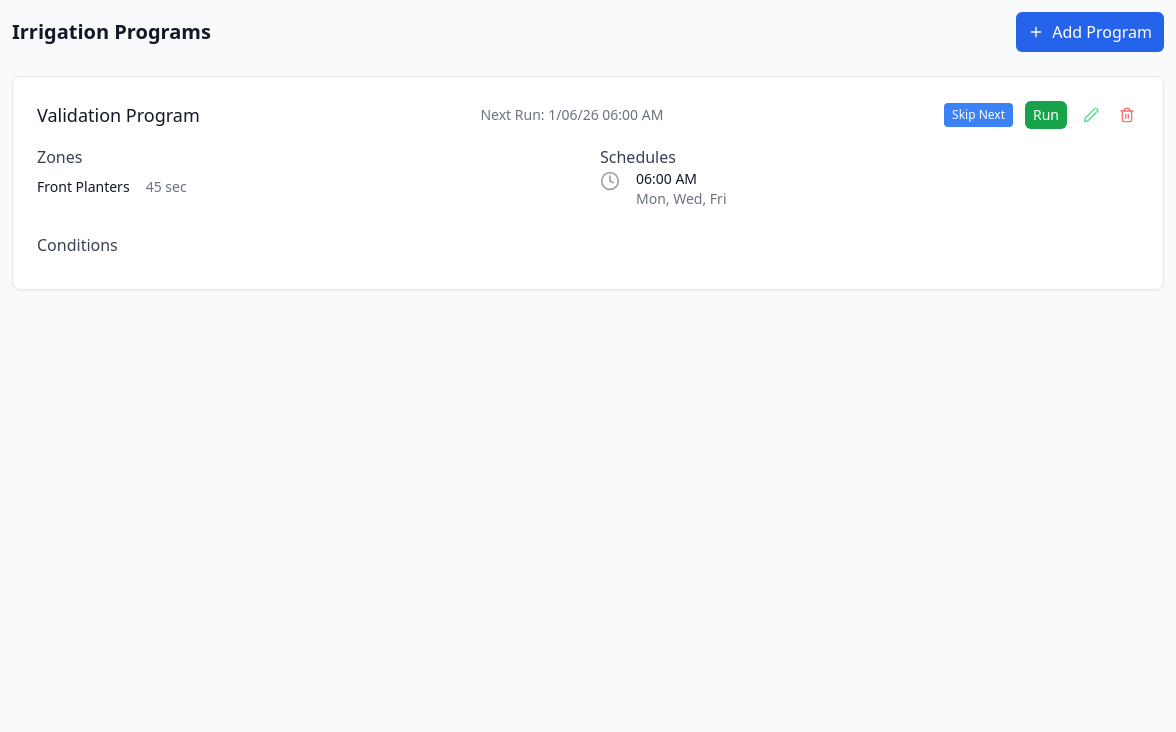
Test: ProgramManager › blocks saving an enabled program when all selected zone durations are zero
Click the button named "Edit program Validation Program": point(1091, 115) [1079, 103, 1103, 127]
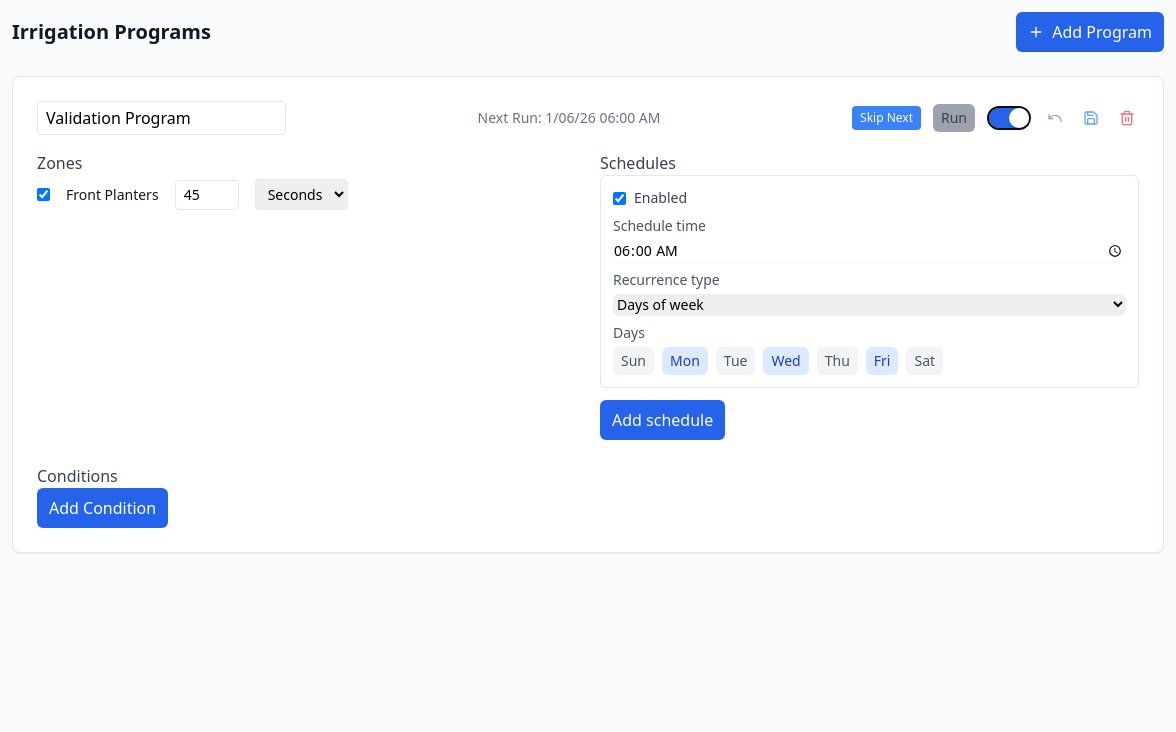
Clear the field named "Duration for Front Planters": point(207, 194) [175, 180, 239, 210]
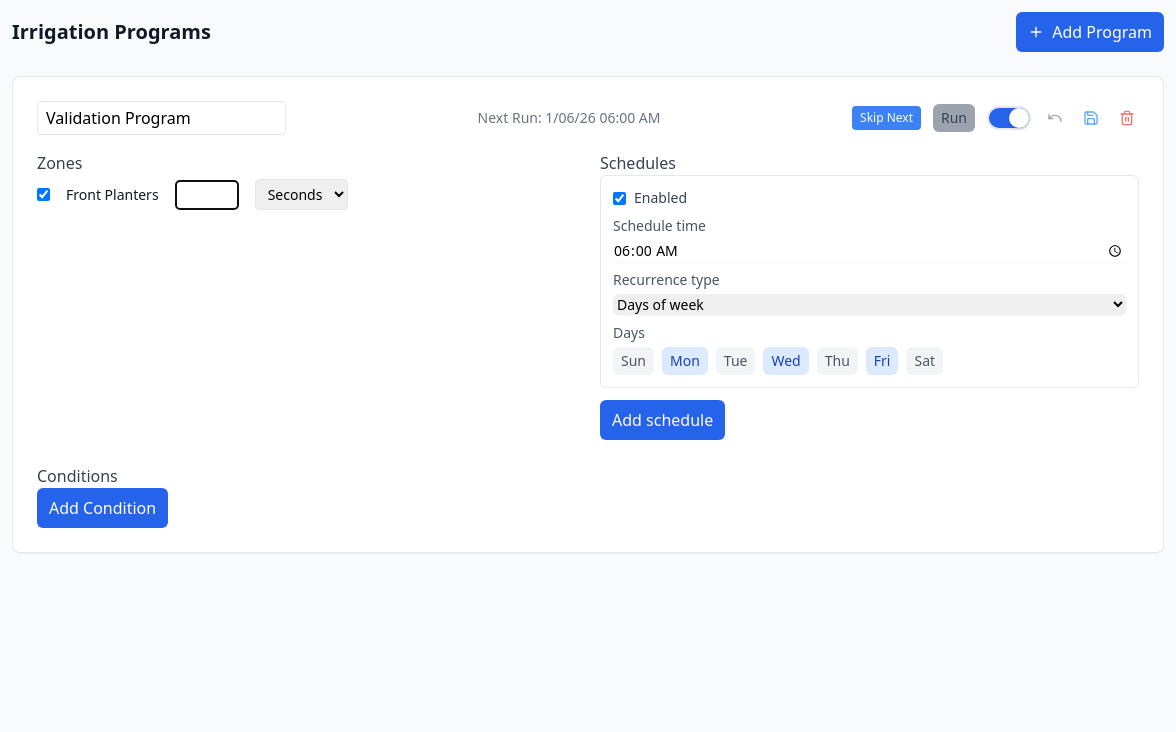
Click the button named "Save program Validation Program": point(1091, 118) [1079, 106, 1103, 130]
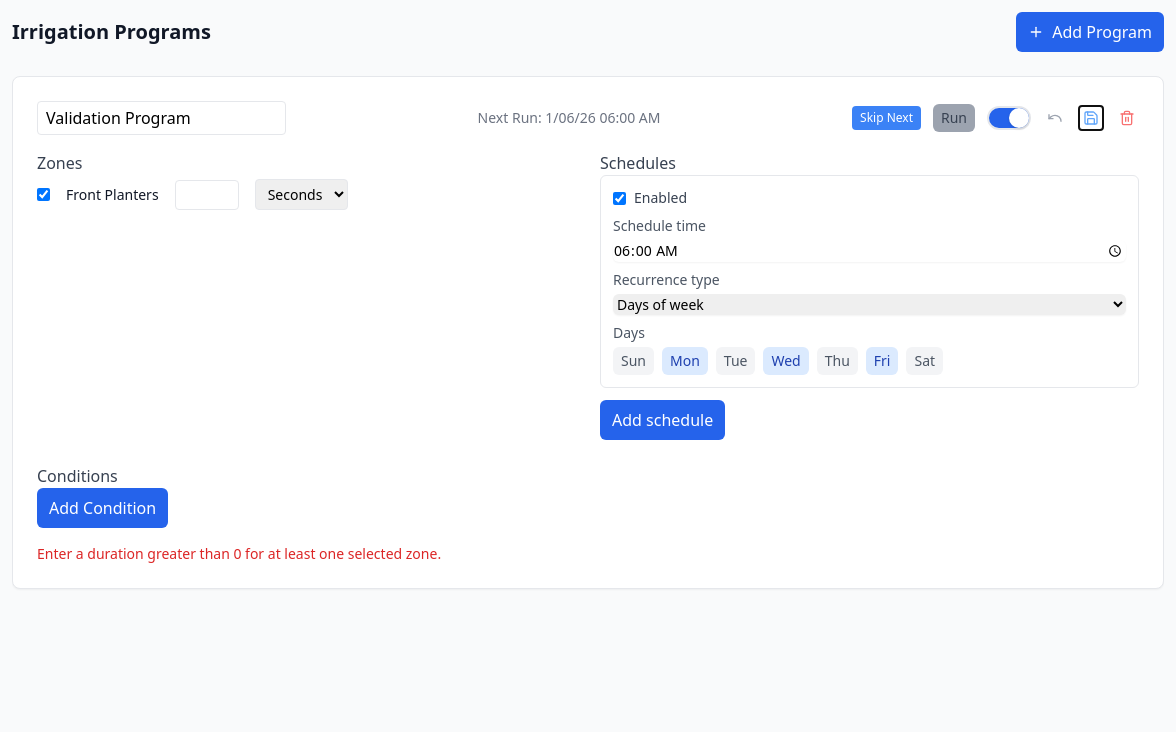
expect the text "Enter a duration greater than 0 for at least one selected zone." is shown: met, box [37, 544, 441, 563]
